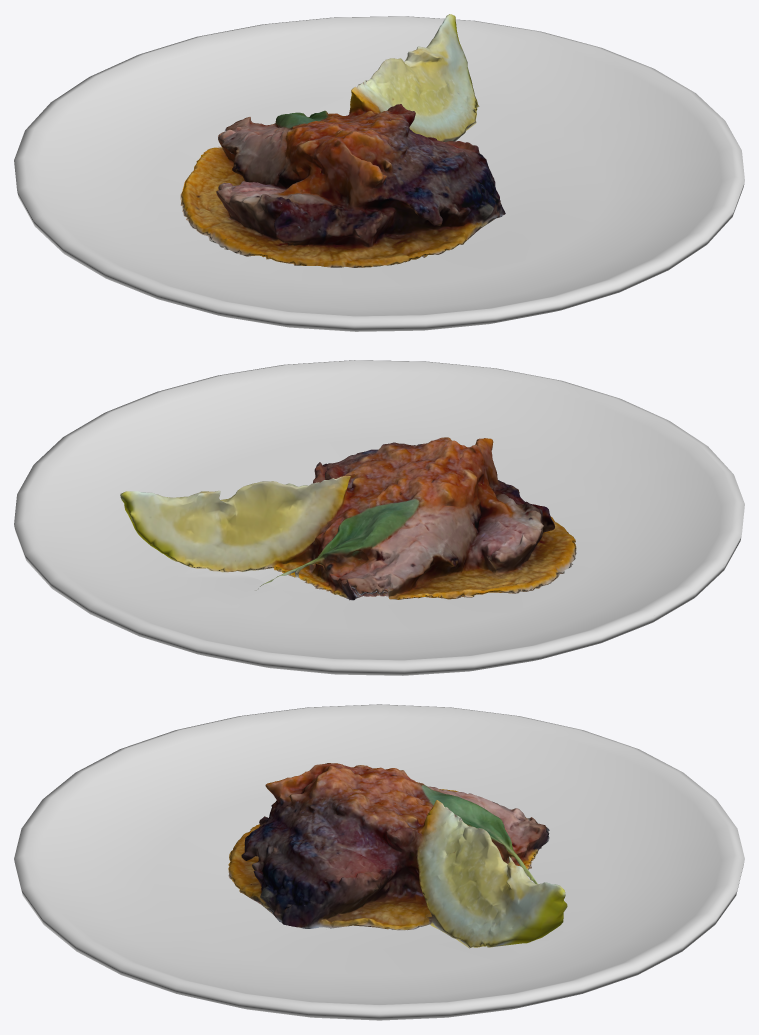
Rendered from eltaco.glb.
3 renders of one model, top to bottom at view 1: azimuth 30°, elevation 25°; view 2: azimuth 150°, elevation 25°; view 3: azimuth 270°, elevation 25°, orthographic.
Visible parts, largest first — view 1: Fixed_ElTaco.001; view 2: Fixed_ElTaco.001; view 3: Fixed_ElTaco.001.
Part boxes in pixels (x1,y1,x2,y2): Fixed_ElTaco.001: [14, 14, 744, 331]; Fixed_ElTaco.001: [14, 360, 744, 675]; Fixed_ElTaco.001: [14, 704, 744, 1020].
Bounding box in the file's own units: 0.2537 × 0.0423 × 0.2535.
Materials: 1 (1 with a texture image).
